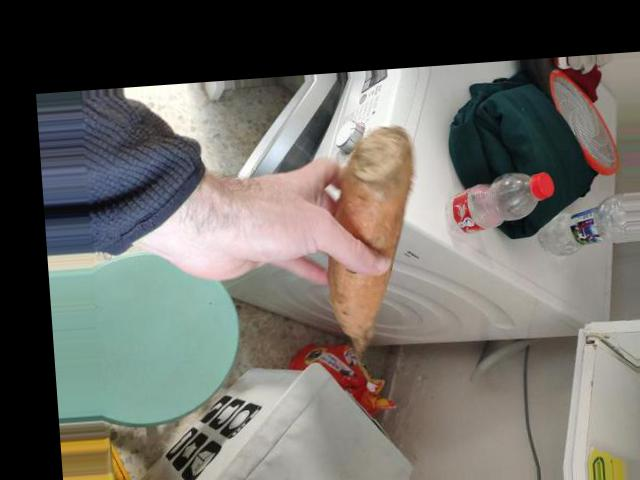sweet_potato: (332, 128, 413, 360)
